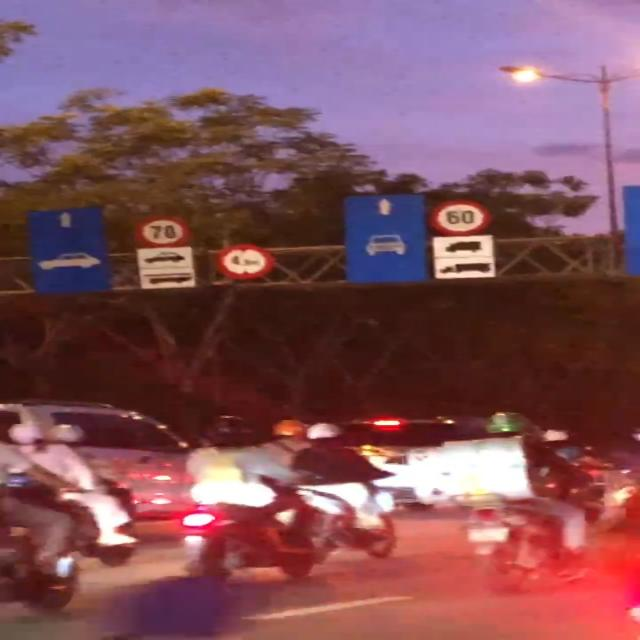Bien bao han che chieu cao: (212, 244, 274, 282)
Bien bao toc do toi da cho phep: (420, 196, 493, 235), (131, 212, 195, 248)
